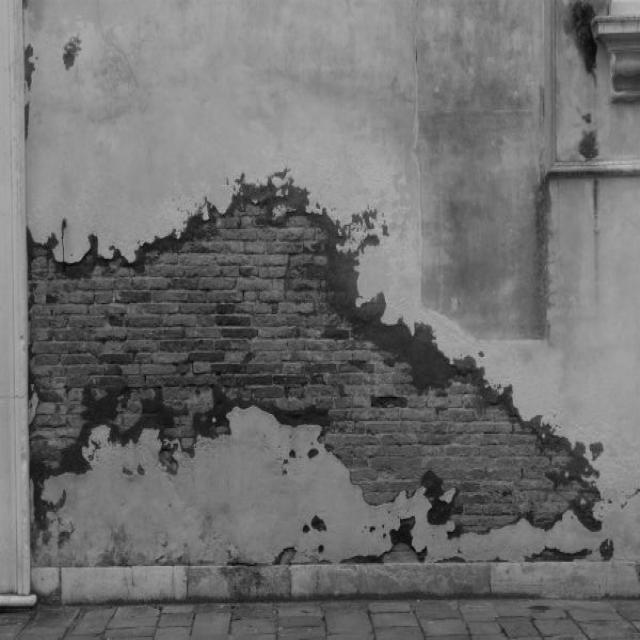peeling paint: (22, 0, 640, 566)
